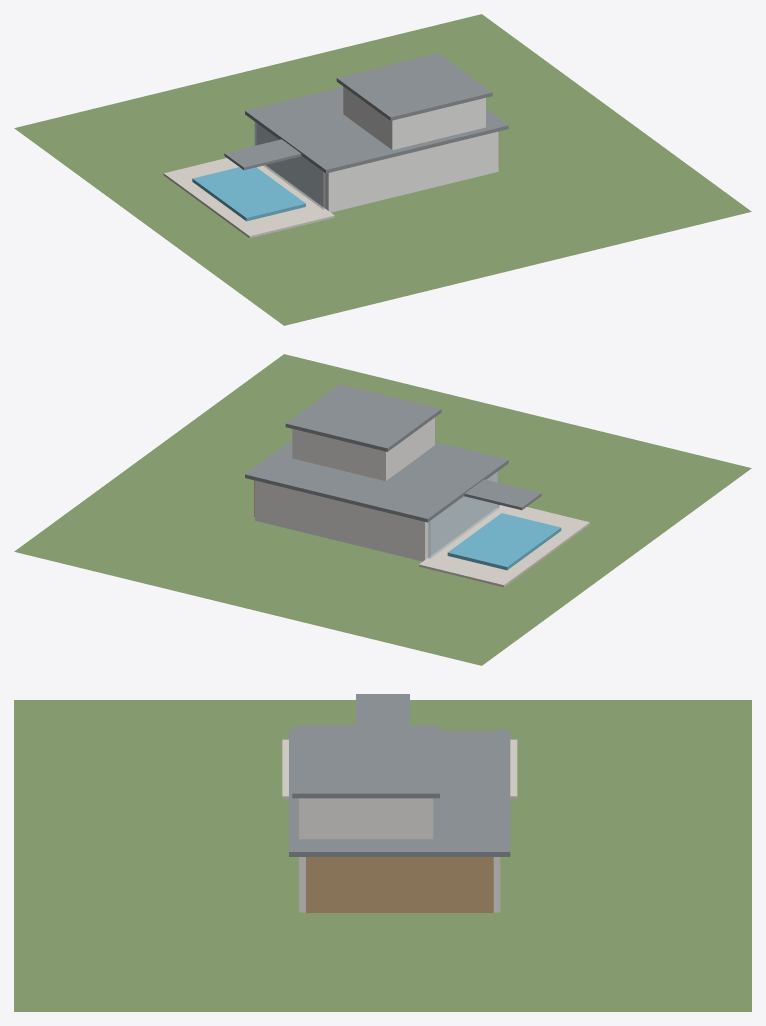
The model's file is villa-moderne.glb.
3 renders of one model, top to bottom at view 1: azimuth 30°, elevation 25°; view 2: azimuth 150°, elevation 25°; view 3: azimuth 270°, elevation 25°, orthographic. The views are drawn at different scales.
Visible parts, largest first — view 1: M_Ground, M_Vol1, M_RoofSlab1, M_RoofSlab2, M_Vol2, M_Terrace, M_Pool, M_GlassWall, M_Canopy; view 2: M_Ground, M_RoofSlab1, M_Vol1, M_RoofSlab2, M_Vol2, M_Terrace, M_Pool, M_GlassWall, M_Canopy; view 3: M_Ground, M_RoofSlab1, M_RoofSlab2, M_WoodPanel, M_Vol2, M_Canopy, M_Terrace, M_Vol1.
Boxes of the visible parts, x1,y1,x2,y2 form: M_Ground: (14, 14, 751, 325); M_Vol1: (255, 122, 498, 212); M_RoofSlab1: (245, 87, 508, 173); M_RoofSlab2: (336, 53, 492, 120); M_Vol2: (343, 86, 485, 149); M_Terrace: (163, 158, 334, 238); M_Pool: (192, 167, 305, 221); M_GlassWall: (254, 121, 325, 209); M_Canopy: (224, 139, 301, 170); M_Ground: (14, 354, 751, 665); M_RoofSlab1: (245, 440, 508, 522); M_Vol1: (255, 471, 498, 561); M_RoofSlab2: (285, 384, 441, 451); M_Vol2: (292, 417, 434, 481); M_Terrace: (419, 505, 589, 587); M_Pool: (447, 513, 561, 570); M_GlassWall: (428, 471, 499, 558); M_Canopy: (464, 479, 541, 510); M_Ground: (14, 700, 751, 1011); M_RoofSlab1: (289, 730, 510, 856); M_RoofSlab2: (292, 725, 439, 798); M_WoodPanel: (306, 857, 493, 912); M_Vol2: (299, 798, 433, 839); M_Canopy: (356, 694, 409, 725); M_Terrace: (282, 739, 517, 799); M_Vol1: (299, 857, 500, 912).
Size of the model in its own units: 22 by 3.73 by 22.
